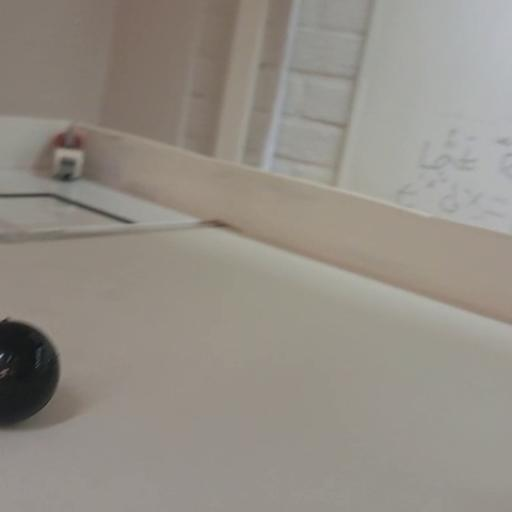dead: (0, 316, 62, 424)
